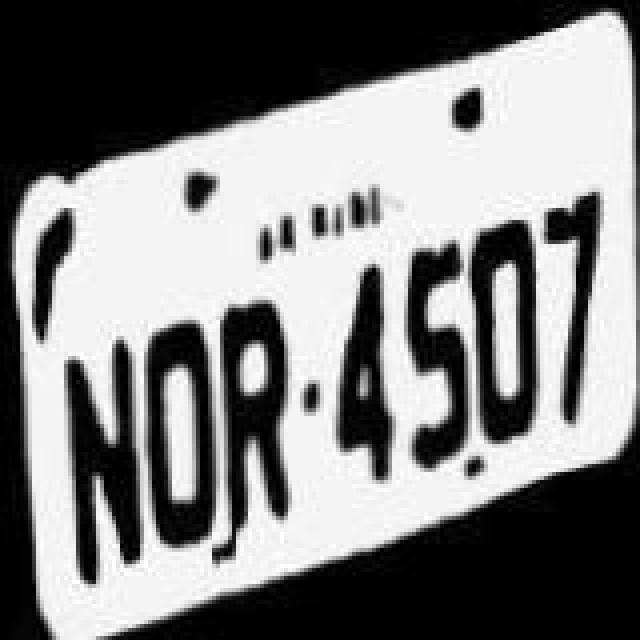4: (324, 248, 400, 516)
5: (396, 232, 468, 488)
7: (536, 176, 616, 448)
N: (62, 312, 146, 592)
O: (138, 286, 218, 554), (464, 210, 544, 450)
R: (212, 292, 304, 532)
